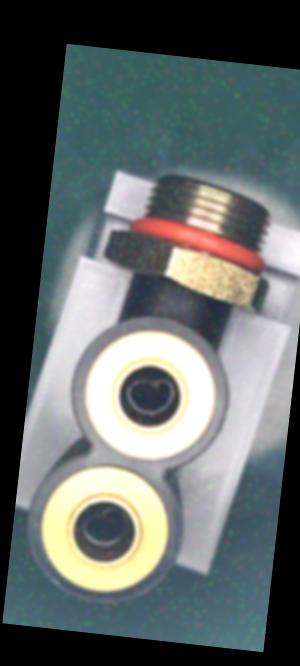joint line: (172, 291, 185, 317)
off-centered: (76, 497, 136, 554), (116, 368, 180, 421)
